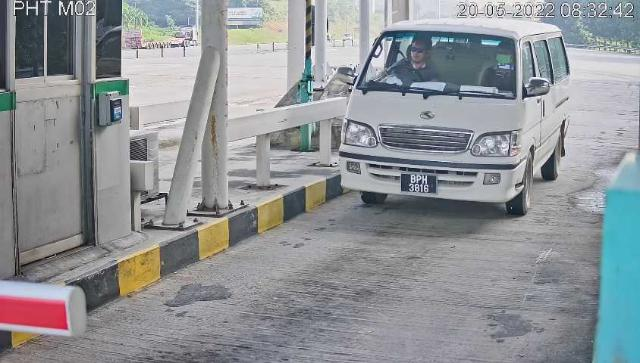License_Plate: (401, 174, 439, 199)
van: (340, 19, 571, 217)
